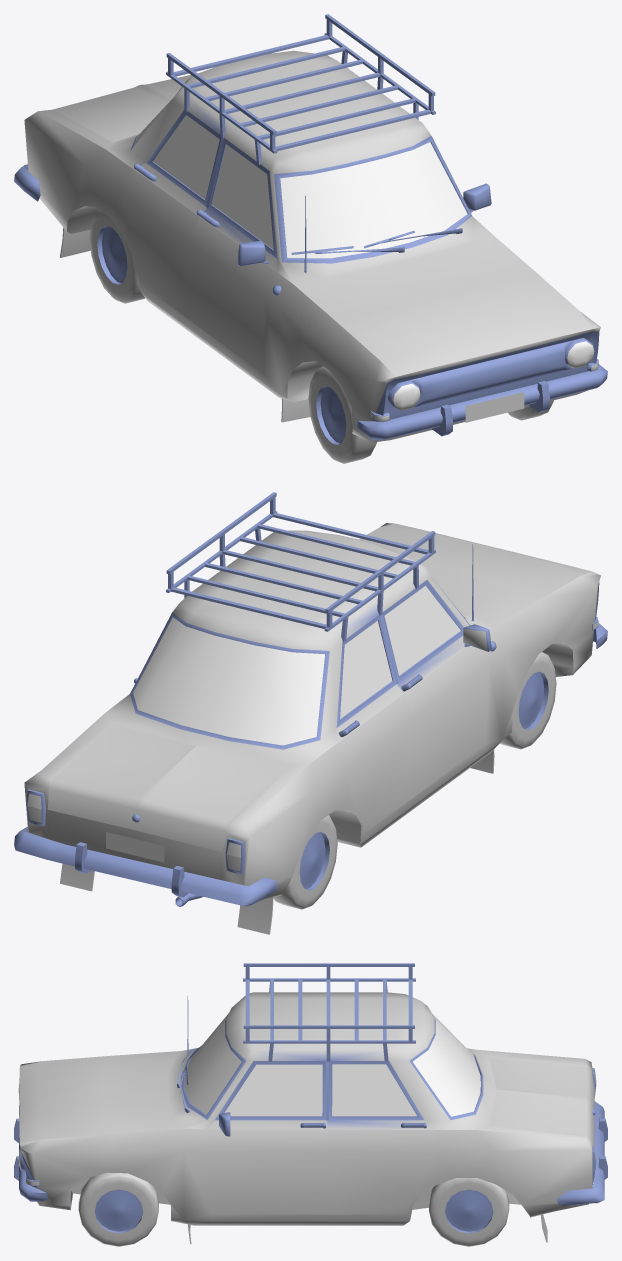
The model's file is MSH_Blue_Sedan.fbx.
The picture shows the model from 3 angles, top to bottom: view 1: azimuth 30°, elevation 25°; view 2: azimuth 150°, elevation 25°; view 3: azimuth 270°, elevation 25°; orthographic projection. The views are drawn at different scales.
Visible parts, largest first — view 1: MSH_Volga, MSH_Volga_Tire_FrontR, MSH_Volga_Tire_BackR; view 2: MSH_Volga, MSH_Volga_Tire_BackR, MSH_Volga_Tire_FrontR; view 3: MSH_Volga, MSH_Volga_Tire_FrontL, MSH_Volga_Tire_BackL.
Part boxes in pixels (x1,y1,x2,y2): MSH_Volga: [14, 14, 607, 442]; MSH_Volga_Tire_FrontR: [308, 366, 376, 463]; MSH_Volga_Tire_BackR: [89, 209, 145, 303]; MSH_Volga: [14, 492, 607, 934]; MSH_Volga_Tire_BackR: [273, 815, 337, 909]; MSH_Volga_Tire_FrontR: [500, 652, 556, 749]; MSH_Volga: [14, 963, 607, 1244]; MSH_Volga_Tire_FrontL: [78, 1172, 158, 1246]; MSH_Volga_Tire_BackL: [429, 1178, 509, 1246].
Bounding box in the file's own units: 190 × 192 × 484.
